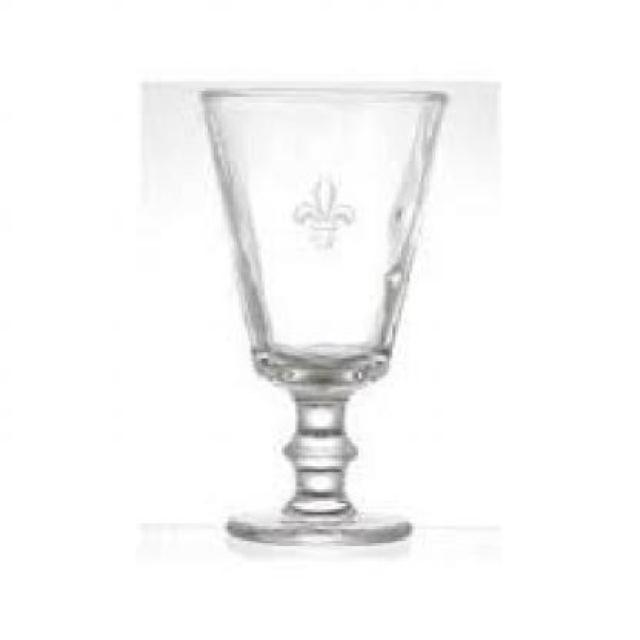kaca: (197, 86, 445, 543)
